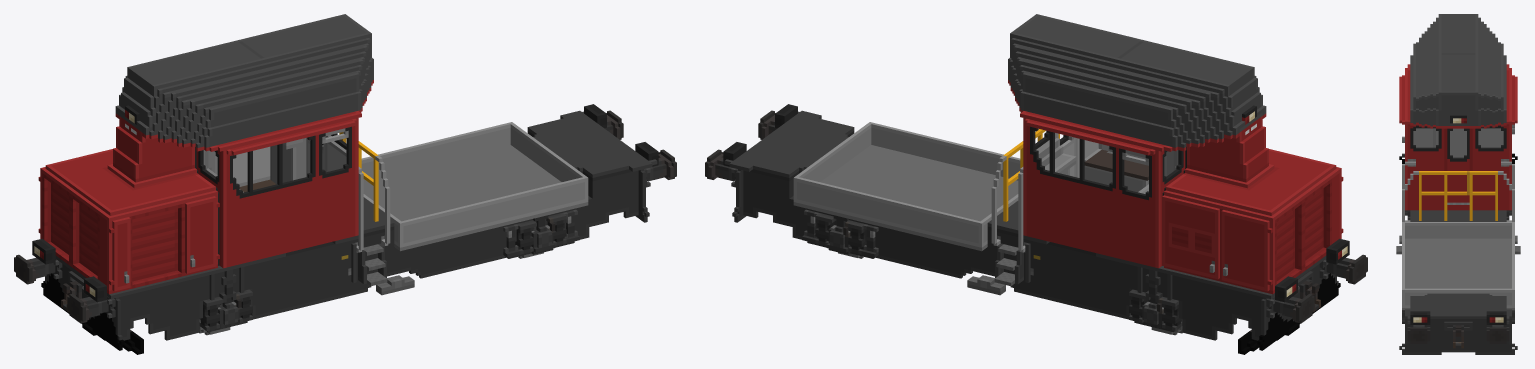
File: tm234crane.obj
3 renders of one model, left to right at view 1: azimuth 30°, elevation 25°; view 2: azimuth 150°, elevation 25°; view 3: azimuth 270°, elevation 25°, orthographic. The views are drawn at different scales.
Visible parts, largest first — view 1: SHELL, FRAME, INTERIOR_LCG_cab1; view 2: SHELL, FRAME, INTERIOR_LCG_cab1; view 3: SHELL, FRAME, INTERIOR_LCG_cab1, DOOR_1, DOOR_1_ROT_90, WIDGET_90_FULLBRIGHT_CG_REVERSERBACKWARD_HIDE_INVERT, WIDGET_91_CG_REVERSERBACKWARD_HIDE_INVERT.
Boxes of the visible parts, x1,y1,x2,y2 form: SHELL: (32,14,658,302); FRAME: (14,110,676,354); INTERIOR_LCG_cab1: (203,135,346,192); SHELL: (723,14,1349,302); FRAME: (705,110,1367,354); INTERIOR_LCG_cab1: (1036,133,1178,193); SHELL: (1399,14,1517,324); FRAME: (1396,153,1520,354); INTERIOR_LCG_cab1: (1413,128,1503,157); DOOR_1: (1447,128,1472,202); DOOR_1_ROT_90: (1444,128,1447,170); WIDGET_90_FULLBRIGHT_CG_REVERSERBACKWARD_HIDE_INVERT: (1413,118,1503,322); WIDGET_91_CG_REVERSERBACKWARD_HIDE_INVERT: (1421,118,1495,322).
Bounding box in the file's own units: 11.25 × 4.56 × 2.75.
1 material, 1 textured.
